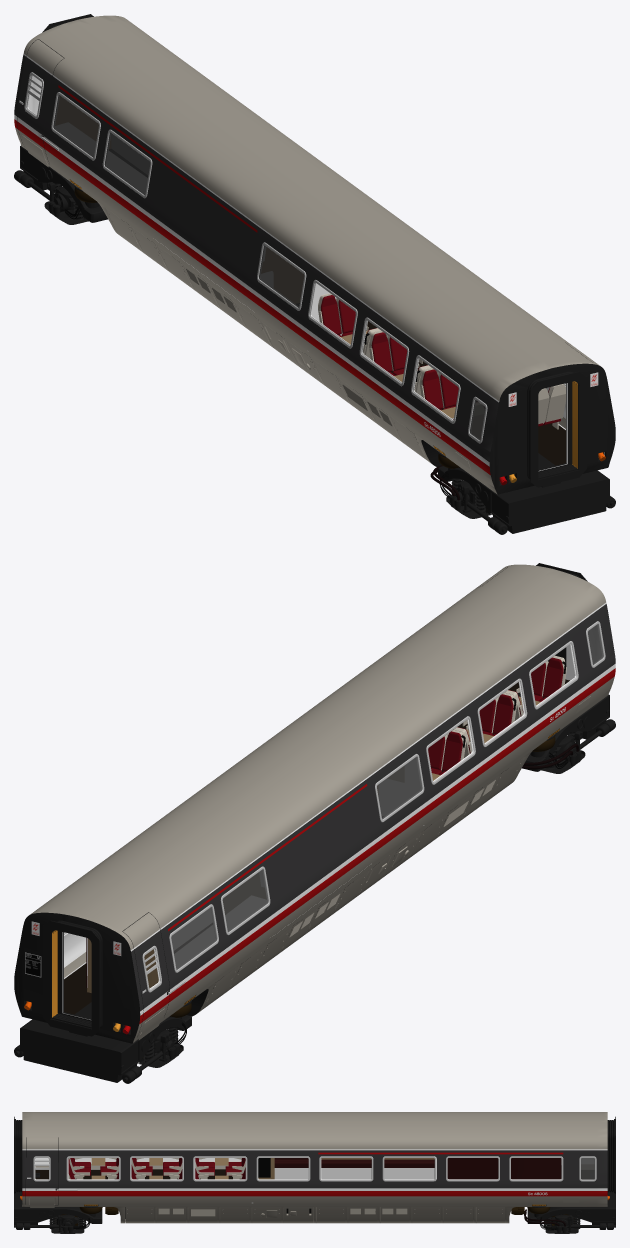
The model's file is train_-_british_rail_apt_buffet_restaurant_car.glb.
The picture shows the model from 3 angles, top to bottom: view 1: azimuth 30°, elevation 25°; view 2: azimuth 150°, elevation 25°; view 3: azimuth 270°, elevation 25°; orthographic projection. The views are drawn at different scales.
Parts seen in each view (by area): view 1: Main Body_0, Bogie_13, Botton Panels_2, Seats_7, Rear Door Surround_1, Interior Walls_3; view 2: Main Body_0, Bogie_13, Botton Panels_2, Seats_7, Rear Door Surround_1, Interior Walls_3; view 3: Main Body_0, Botton Panels_2, Roof Racks_5, Bogie_13, Seats_7, Interior Walls_3, Rear Door Surround_1, Red Strip_22, Tables_8, Wires and Pipes.001_15, Step.001_21, Undercarriage.002_14.
Part boxes in pixels (x1,y1,x2,y2): Main Body_0: (14,15,615,494); Bogie_13: (14,146,615,534); Botton Panels_2: (105,208,428,461); Seats_7: (318,293,565,429); Rear Door Surround_1: (42,14,586,487); Interior Walls_3: (26,75,604,471); Main Body_0: (14,564,615,1043); Bogie_13: (14,694,615,1083); Botton Panels_2: (201,757,523,1010); Seats_7: (428,655,566,775); Rear Door Surround_1: (43,563,587,1036); Interior Walls_3: (62,644,576,1020); Main Body_0: (22,1112,607,1223); Botton Panels_2: (125,1207,504,1223); Roof Racks_5: (252,1158,561,1203); Bogie_13: (14,1191,615,1233); Seats_7: (68,1158,245,1179); Interior Walls_3: (35,1157,561,1180); Rear Door Surround_1: (14,1116,615,1193); Red Strip_22: (318,1152,563,1154); Tables_8: (91,1158,228,1179); Wires and Pipes.001_15: (524,1209,565,1230); Step.001_21: (30,1198,54,1207); Undercarriage.002_14: (35,1173,524,1214).
Size of what is drawn, in the model's own units: 3.16 by 3.82 by 20.51.
22 materials, 2 textured.
